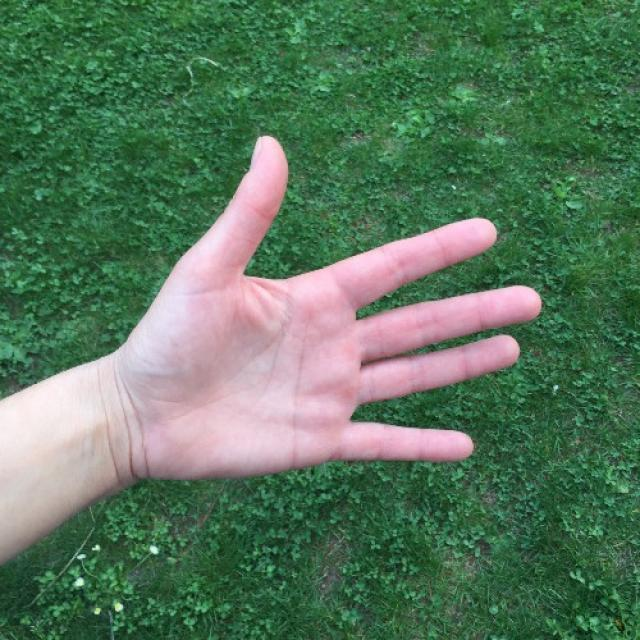paper: (174, 135, 543, 462)
